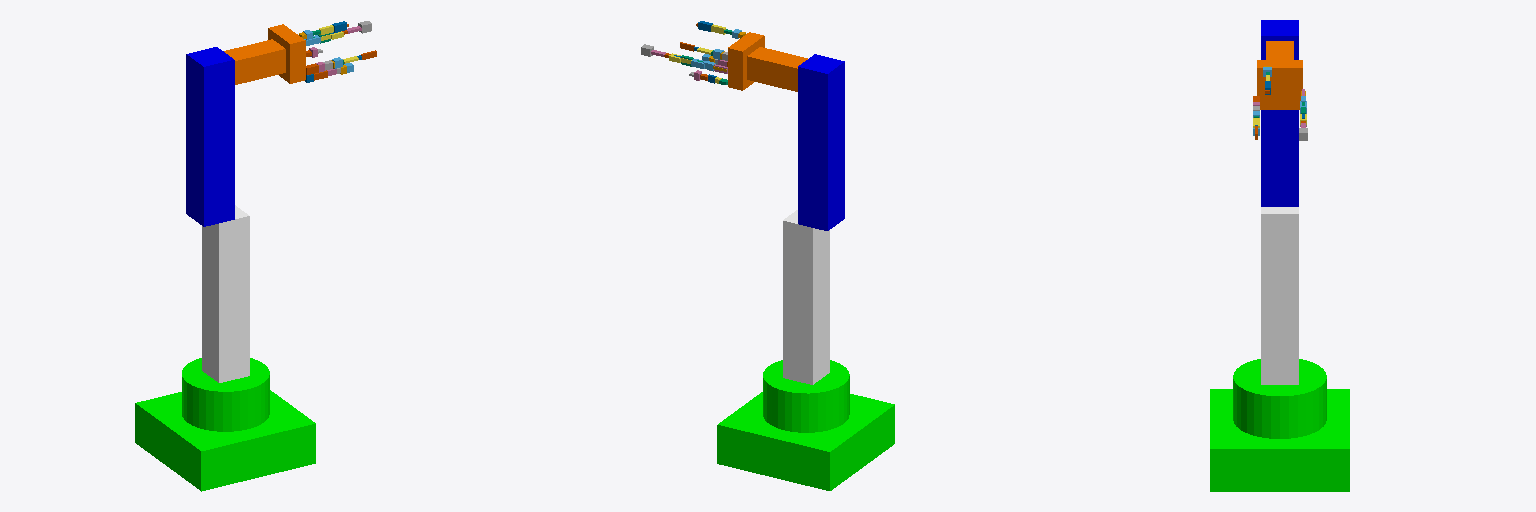
--- What the picture shows (computed from the rendered views, not written in the file) ---
Views: 3 orthographic renders of the robot side by side, from view 1: azimuth 30°, elevation 25°; view 2: azimuth 150°, elevation 25°; view 3: azimuth 270°, elevation 25°.
Model robot with 46 links and 45 joints (42 revolute, 1 continuous, 2 fixed), rooted at base_link, posed every joint at zero.
Visible links, largest first — view 1: base_link, arm_link, support_link, wrist_link, palm_link; view 2: base_link, arm_link, support_link, wrist_link, palm_link; view 3: base_link, support_link, arm_link, palm_link, wrist_link.
Link boxes in pixels (<box>): base_link: <box>135,358,315,491</box>; arm_link: <box>186,47,234,226</box>; support_link: <box>202,205,249,382</box>; wrist_link: <box>224,39,285,84</box>; palm_link: <box>268,24,305,83</box>; base_link: <box>717,360,894,490</box>; arm_link: <box>798,54,844,230</box>; support_link: <box>783,210,829,384</box>; wrist_link: <box>747,47,807,91</box>; palm_link: <box>728,32,764,90</box>; base_link: <box>1210,359,1349,491</box>; support_link: <box>1261,207,1298,384</box>; arm_link: <box>1261,20,1298,206</box>; palm_link: <box>1257,60,1302,109</box>; wrist_link: <box>1266,41,1293,59</box>.
Bounding box of the posed robot: 1.39 × 0.75 × 2.55 m (x, y, z).
Geometry: primitives only (box / cylinder / sphere), no mesh files.

The robot description file, URDF, robot "robot":
<?xml version='1.0' encoding='utf-8'?>
<robot name="robot">
  <link name="base_link">
    <visual>
      <origin xyz="0 0 0.125" rpy="0 0 0" />
      <geometry>
        <box size="0.75 0.75 0.25" />
      </geometry>
      <material name="green" />
    </visual>
    <visual>
      <origin xyz="0 0 0.375" rpy="0 0 0" />
      <geometry>
        <cylinder length="0.25" radius="0.25" />
      </geometry>
      <material name="green">
        <color rgba="0 1 0 1" />
      </material>
    </visual>
    <collision>
      <geometry>
        <box size="0.75 0.75 0.5" />
      </geometry>
    </collision>
    <inertial>
      <mass value="0.5" />
      <inertia ixx="0.034" ixy="0.0" ixz="0.0" iyy="0.034" iyz="0.0" izz="0.034" />
    </inertial>
  </link>
  <link name="support_link">
    <visual>
      <origin xyz="0 0 0.5" rpy="0 0 0" />
      <geometry>
        <box size="0.2 0.2 1" />
      </geometry>
      <material name="white">
        <color rgba="1 1 1 1" />
      </material>
    </visual>
    <collision>
      <geometry>
        <box size="0.2 0.2 1" />
      </geometry>
    </collision>
    <inertial>
      <mass value="0.1" />
      <inertia ixx="0.01" ixy="0.0" ixz="0.0" iyy="0.01" iyz="0.0" izz="0.01" />
    </inertial>
  </link>
  <joint name="support_joint" type="continuous">
    <origin xyz="0 0 0.5" rpy="0 0 0" />
    <parent link="base_link" />
    <child link="support_link" />
    <axis xyz="0 0 1" />
  </joint>
  <link name="arm_link">
    <visual>
      <origin xyz="0 0 0.5" rpy="0 0 0" />
      <geometry>
        <box size="0.2 0.2 1" />
      </geometry>
      <material name="blue">
        <color rgba="0 0 1 1" />
      </material>
    </visual>
    <collision>
      <geometry>
        <box size="0.2 0.2 1" />
      </geometry>
    </collision>
    <inertial>
      <mass value="0.1" />
      <inertia ixx="0.01" ixy="0.0" ixz="0.0" iyy="0.01" iyz="0.0" izz="0.01" />
    </inertial>
  </link>
  <joint name="arm_joint" type="revolute">
    <origin xyz="-0.1 0 1" rpy="0 0 0" />
    <parent link="support_link" />
    <child link="arm_link" />
    <axis xyz="0 1 0" />
    <limit lower="-3.14" upper="3.14" effort="1.0" velocity="1.0" />
  </joint>
  <link name="wrist_link">
    <visual>
      <origin xyz="0 0 0.25" rpy="0 0 0" />
      <geometry>
        <box size="0.15 0.15 0.5" />
      </geometry>
      <material name="orange">
        <color rgba="1 0.5 0 1" />
      </material>
    </visual>
    <collision>
      <geometry>
        <box size="0.15 0.15 0.5" />
      </geometry>
    </collision>
    <inertial>
      <mass value="0.1" />
      <inertia ixx="0.01" ixy="0.0" ixz="0.0" iyy="0.01" iyz="0.0" izz="0.01" />
    </inertial>
  </link>
  <joint name="wrist_joint" type="fixed">
    <origin xyz="0 0 0.9" rpy="0 1.571 0" />
    <parent link="arm_link" />
    <child link="wrist_link" />
  </joint>
  <link name="palm_link">
    <visual>
      <origin xyz="0 0 0.05" rpy="0 0 0" />
      <geometry>
        <box size="0.25 0.25 0.1" />
      </geometry>
      <material name="orange" />
    </visual>
    <collision>
      <geometry>
        <box size="0.25 0.25 0.1" />
      </geometry>
    </collision>
    <inertial>
      <mass value="0.1" />
      <inertia ixx="0.01" ixy="0.0" ixz="0.0" iyy="0.01" iyz="0.0" izz="0.01" />
    </inertial>
  </link>
  <joint name="palm_joint" type="fixed">
    <origin xyz="0 0 0.45" rpy="0 0 0" />
    <parent link="wrist_link" />
    <child link="palm_link" />
  </joint>
  <link name="finger_link_0_0">
    <visual>
      <origin xyz="0 0 0.038" rpy="0 0 0" />
      <geometry>
        <box size="0.044 0.035 0.076" />
      </geometry>
    </visual>
    <collision>
      <geometry>
        <box size="0.044 0.035 0.076" />
      </geometry>
    </collision>
    <inertial>
      <mass value="0.035" />
      <inertia ixx="0.0" iyy="0.0" izz="0.0" ixy="0" ixz="0" iyz="0" />
    </inertial>
  </link>
  <joint name="finger_joint_palm_link_to_finger_link_0_0" type="revolute">
    <origin xyz="0.065 -0.125 0.1" rpy="0 0 0" />
    <parent link="palm_link" />
    <child link="finger_link_0_0" />
    <axis xyz="1.0 0.0 0.0" />
    <limit lower="-3.142" upper="3.142" effort="10" velocity="10" />
  </joint>
  <link name="finger_link_0_1">
    <visual>
      <origin xyz="0 0 0.0205" rpy="0 0 0" />
      <geometry>
        <box size="0.047 0.033 0.041" />
      </geometry>
    </visual>
    <collision>
      <geometry>
        <box size="0.047 0.033 0.041" />
      </geometry>
    </collision>
    <inertial>
      <mass value="0.019" />
      <inertia ixx="0.0" iyy="0.0" izz="0.0" ixy="0" ixz="0" iyz="0" />
    </inertial>
  </link>
  <joint name="finger_joint_finger_link_0_0_to_finger_link_0_1" type="revolute">
    <origin xyz="0.0 0.0 0.076" rpy="0 0 0" />
    <parent link="finger_link_0_0" />
    <child link="finger_link_0_1" />
    <axis xyz="1.0 0.0 0.0" />
    <limit lower="-3.142" upper="3.142" effort="10" velocity="10" />
  </joint>
  <link name="finger_link_0_2">
    <visual>
      <origin xyz="0 0 0.027" rpy="0 0 0" />
      <geometry>
        <box size="0.039 0.035 0.054" />
      </geometry>
    </visual>
    <collision>
      <geometry>
        <box size="0.039 0.035 0.054" />
      </geometry>
    </collision>
    <inertial>
      <mass value="0.022" />
      <inertia ixx="0.0" iyy="0.0" izz="0.0" ixy="0" ixz="0" iyz="0" />
    </inertial>
  </link>
  <joint name="finger_joint_finger_link_0_1_to_finger_link_0_2" type="revolute">
    <origin xyz="0.0 0.0 0.041" rpy="0 0 0" />
    <parent link="finger_link_0_1" />
    <child link="finger_link_0_2" />
    <axis xyz="1.0 0.0 0.0" />
    <limit lower="-3.142" upper="3.142" effort="10" velocity="10" />
  </joint>
  <link name="finger_link_0_3">
    <visual>
      <origin xyz="0 0 0.0055" rpy="0 0 0" />
      <geometry>
        <box size="0.035 0.04 0.011" />
      </geometry>
    </visual>
    <collision>
      <geometry>
        <box size="0.035 0.04 0.011" />
      </geometry>
    </collision>
    <inertial>
      <mass value="0.005" />
      <inertia ixx="0.0" iyy="0.0" izz="0.0" ixy="0" ixz="0" iyz="0" />
    </inertial>
  </link>
  <joint name="finger_joint_finger_link_0_2_to_finger_link_0_3" type="revolute">
    <origin xyz="0.0 0.0 0.054" rpy="0 0 0" />
    <parent link="finger_link_0_2" />
    <child link="finger_link_0_3" />
    <axis xyz="0.0 1.0 0.0" />
    <limit lower="-3.142" upper="3.142" effort="10" velocity="10" />
  </joint>
  <link name="finger_link_0_4">
    <visual>
      <origin xyz="0 0 0.025" rpy="0 0 0" />
      <geometry>
        <box size="0.047 0.037 0.05" />
      </geometry>
    </visual>
    <collision>
      <geometry>
        <box size="0.047 0.037 0.05" />
      </geometry>
    </collision>
    <inertial>
      <mass value="0.026" />
      <inertia ixx="0.0" iyy="0.0" izz="0.0" ixy="0" ixz="0" iyz="0" />
    </inertial>
  </link>
  <joint name="finger_joint_finger_link_0_3_to_finger_link_0_4" type="revolute">
    <origin xyz="0.0 0.0 0.011" rpy="0 0 0" />
    <parent link="finger_link_0_3" />
    <child link="finger_link_0_4" />
    <axis xyz="0.0 1.0 0.0" />
    <limit lower="-3.142" upper="3.142" effort="10" velocity="10" />
  </joint>
  <link name="finger_link_0_5">
    <visual>
      <origin xyz="0 0 0.0065" rpy="0 0 0" />
      <geometry>
        <box size="0.029 0.028 0.013" />
      </geometry>
    </visual>
    <collision>
      <geometry>
        <box size="0.029 0.028 0.013" />
      </geometry>
    </collision>
    <inertial>
      <mass value="0.003" />
      <inertia ixx="0.0" iyy="0.0" izz="0.0" ixy="0" ixz="0" iyz="0" />
    </inertial>
  </link>
  <joint name="finger_joint_finger_link_0_4_to_finger_link_0_5" type="revolute">
    <origin xyz="0.0 0.0 0.05" rpy="0 0 0" />
    <parent link="finger_link_0_4" />
    <child link="finger_link_0_5" />
    <axis xyz="0.0 1.0 0.0" />
    <limit lower="-3.142" upper="3.142" effort="10" velocity="10" />
  </joint>
  <link name="finger_link_0_6">
    <visual>
      <origin xyz="0 0 0.047" rpy="0 0 0" />
      <geometry>
        <box size="0.013 0.035 0.094" />
      </geometry>
    </visual>
    <collision>
      <geometry>
        <box size="0.013 0.035 0.094" />
      </geometry>
    </collision>
    <inertial>
      <mass value="0.013" />
      <inertia ixx="0.0" iyy="0.0" izz="0.0" ixy="0" ixz="0" iyz="0" />
    </inertial>
  </link>
  <joint name="finger_joint_finger_link_0_5_to_finger_link_0_6" type="revolute">
    <origin xyz="0.0 0.0 0.013" rpy="0 0 0" />
    <parent link="finger_link_0_5" />
    <child link="finger_link_0_6" />
    <axis xyz="0.0 1.0 0.0" />
    <limit lower="-3.142" upper="3.142" effort="10" velocity="10" />
  </joint>
  <link name="finger_link_0_7">
    <visual>
      <origin xyz="0 0 0.0125" rpy="0 0 0" />
      <geometry>
        <box size="0.019 0.02 0.025" />
      </geometry>
    </visual>
    <collision>
      <geometry>
        <box size="0.019 0.02 0.025" />
      </geometry>
    </collision>
    <inertial>
      <mass value="0.003" />
      <inertia ixx="0.0" iyy="0.0" izz="0.0" ixy="0" ixz="0" iyz="0" />
    </inertial>
  </link>
  <joint name="finger_joint_finger_link_0_6_to_finger_link_0_7" type="revolute">
    <origin xyz="0.0 0.0 0.094" rpy="0 0 0" />
    <parent link="finger_link_0_6" />
    <child link="finger_link_0_7" />
    <axis xyz="1.0 0.0 0.0" />
    <limit lower="-3.142" upper="3.142" effort="10" velocity="10" />
  </joint>
  <link name="finger_link_0_8">
    <visual>
      <origin xyz="0 0 0.0485" rpy="0 0 0" />
      <geometry>
        <box size="0.034 0.014 0.097" />
      </geometry>
    </visual>
    <collision>
      <geometry>
        <box size="0.034 0.014 0.097" />
      </geometry>
    </collision>
    <inertial>
      <mass value="0.014" />
      <inertia ixx="0.0" iyy="0.0" izz="0.0" ixy="0" ixz="0" iyz="0" />
    </inertial>
  </link>
  <joint name="finger_joint_finger_link_0_7_to_finger_link_0_8" type="revolute">
    <origin xyz="0.0 0.0 0.025" rpy="0 0 0" />
    <parent link="finger_link_0_7" />
    <child link="finger_link_0_8" />
    <axis xyz="1.0 0.0 0.0" />
    <limit lower="-3.142" upper="3.142" effort="10" velocity="10" />
  </joint>
  <link name="finger_link_1_0">
    <visual>
      <origin xyz="0 0 0.044" rpy="0 0 0" />
      <geometry>
        <box size="0.038 0.015 0.088" />
      </geometry>
    </visual>
    <collision>
      <geometry>
        <box size="0.038 0.015 0.088" />
      </geometry>
    </collision>
    <inertial>
      <mass value="0.015" />
      <inertia ixx="0.0" iyy="0.0" izz="0.0" ixy="0" ixz="0" iyz="0" />
    </inertial>
  </link>
  <joint name="finger_joint_palm_link_to_finger_link_1_0" type="revolute">
    <origin xyz="0.021 0.125 0.1" rpy="0 0 0" />
    <parent link="palm_link" />
    <child link="finger_link_1_0" />
    <axis xyz="-1.0 0.0 0.0" />
    <limit lower="-3.142" upper="3.142" effort="10" velocity="10" />
  </joint>
  <link name="finger_link_1_1">
    <visual>
      <origin xyz="0 0 0.0225" rpy="0 0 0" />
      <geometry>
        <box size="0.045 0.017 0.045" />
      </geometry>
    </visual>
    <collision>
      <geometry>
        <box size="0.045 0.017 0.045" />
      </geometry>
    </collision>
    <inertial>
      <mass value="0.01" />
      <inertia ixx="0.0" iyy="0.0" izz="0.0" ixy="0" ixz="0" iyz="0" />
    </inertial>
  </link>
  <joint name="finger_joint_finger_link_1_0_to_finger_link_1_1" type="revolute">
    <origin xyz="0.0 0.0 0.088" rpy="0 0 0" />
    <parent link="finger_link_1_0" />
    <child link="finger_link_1_1" />
    <axis xyz="0.0 1.0 0.0" />
    <limit lower="-3.142" upper="3.142" effort="10" velocity="10" />
  </joint>
  <link name="finger_link_1_2">
    <visual>
      <origin xyz="0 0 0.006" rpy="0 0 0" />
      <geometry>
        <box size="0.025 0.011 0.012" />
      </geometry>
    </visual>
    <collision>
      <geometry>
        <box size="0.025 0.011 0.012" />
      </geometry>
    </collision>
    <inertial>
      <mass value="0.001" />
      <inertia ixx="0.0" iyy="0.0" izz="0.0" ixy="0" ixz="0" iyz="0" />
    </inertial>
  </link>
  <joint name="finger_joint_finger_link_1_1_to_finger_link_1_2" type="revolute">
    <origin xyz="0.0 0.0 0.045" rpy="0 0 0" />
    <parent link="finger_link_1_1" />
    <child link="finger_link_1_2" />
    <axis xyz="0.0 1.0 0.0" />
    <limit lower="-3.142" upper="3.142" effort="10" velocity="10" />
  </joint>
  <link name="finger_link_1_3">
    <visual>
      <origin xyz="0 0 0.043" rpy="0 0 0" />
      <geometry>
        <box size="0.035 0.038 0.086" />
      </geometry>
    </visual>
    <collision>
      <geometry>
        <box size="0.035 0.038 0.086" />
      </geometry>
    </collision>
    <inertial>
      <mass value="0.034" />
      <inertia ixx="0.0" iyy="0.0" izz="0.0" ixy="0" ixz="0" iyz="0" />
    </inertial>
  </link>
  <joint name="finger_joint_finger_link_1_2_to_finger_link_1_3" type="revolute">
    <origin xyz="0.0 0.0 0.012" rpy="0 0 0" />
    <parent link="finger_link_1_2" />
    <child link="finger_link_1_3" />
    <axis xyz="0.0 1.0 0.0" />
    <limit lower="-3.142" upper="3.142" effort="10" velocity="10" />
  </joint>
  <link name="finger_link_1_4">
    <visual>
      <origin xyz="0 0 0.0375" rpy="0 0 0" />
      <geometry>
        <box size="0.049 0.023 0.075" />
      </geometry>
    </visual>
    <collision>
      <geometry>
        <box size="0.049 0.023 0.075" />
      </geometry>
    </collision>
    <inertial>
      <mass value="0.025" />
      <inertia ixx="0.0" iyy="0.0" izz="0.0" ixy="0" ixz="0" iyz="0" />
    </inertial>
  </link>
  <joint name="finger_joint_finger_link_1_3_to_finger_link_1_4" type="revolute">
    <origin xyz="0.0 0.0 0.086" rpy="0 0 0" />
    <parent link="finger_link_1_3" />
    <child link="finger_link_1_4" />
    <axis xyz="1.0 0.0 0.0" />
    <limit lower="-3.142" upper="3.142" effort="10" velocity="10" />
  </joint>
  <link name="finger_link_1_5">
    <visual>
      <origin xyz="0 0 0.0375" rpy="0 0 0" />
      <geometry>
        <box size="0.03 0.041 0.075" />
      </geometry>
    </visual>
    <collision>
      <geometry>
        <box size="0.03 0.041 0.075" />
      </geometry>
    </collision>
    <inertial>
      <mass value="0.028" />
      <inertia ixx="0.0" iyy="0.0" izz="0.0" ixy="0" ixz="0" iyz="0" />
    </inertial>
  </link>
  <joint name="finger_joint_finger_link_1_4_to_finger_link_1_5" type="revolute">
    <origin xyz="0.0 0.0 0.075" rpy="0 0 0" />
    <parent link="finger_link_1_4" />
    <child link="finger_link_1_5" />
    <axis xyz="1.0 0.0 0.0" />
    <limit lower="-3.142" upper="3.142" effort="10" velocity="10" />
  </joint>
  <link name="finger_link_2_0">
    <visual>
      <origin xyz="0 0 0.0235" rpy="0 0 0" />
      <geometry>
        <box size="0.045 0.036 0.047" />
      </geometry>
    </visual>
    <collision>
      <geometry>
        <box size="0.045 0.036 0.047" />
      </geometry>
    </collision>
    <inertial>
      <mass value="0.023" />
      <inertia ixx="0.0" iyy="0.0" izz="0.0" ixy="0" ixz="0" iyz="0" />
    </inertial>
  </link>
  <joint name="finger_joint_palm_link_to_finger_link_2_0" type="revolute">
    <origin xyz="0.112 -0.125 0.1" rpy="0 0 0" />
    <parent link="palm_link" />
    <child link="finger_link_2_0" />
    <axis xyz="1.0 0.0 0.0" />
    <limit lower="-3.142" upper="3.142" effort="10" velocity="10" />
  </joint>
  <link name="finger_link_2_1">
    <visual>
      <origin xyz="0 0 0.046" rpy="0 0 0" />
      <geometry>
        <box size="0.038 0.035 0.092" />
      </geometry>
    </visual>
    <collision>
      <geometry>
        <box size="0.038 0.035 0.092" />
      </geometry>
    </collision>
    <inertial>
      <mass value="0.037" />
      <inertia ixx="0.0" iyy="0.0" izz="0.0" ixy="0" ixz="0" iyz="0" />
    </inertial>
  </link>
  <joint name="finger_joint_finger_link_2_0_to_finger_link_2_1" type="revolute">
    <origin xyz="0.0 0.0 0.047" rpy="0 0 0" />
    <parent link="finger_link_2_0" />
    <child link="finger_link_2_1" />
    <axis xyz="0.0 1.0 0.0" />
    <limit lower="-3.142" upper="3.142" effort="10" velocity="10" />
  </joint>
  <link name="finger_link_2_2">
    <visual>
      <origin xyz="0 0 0.0305" rpy="0 0 0" />
      <geometry>
        <box size="0.032 0.022 0.061" />
      </geometry>
    </visual>
    <collision>
      <geometry>
        <box size="0.032 0.022 0.061" />
      </geometry>
    </collision>
    <inertial>
      <mass value="0.013" />
      <inertia ixx="0.0" iyy="0.0" izz="0.0" ixy="0" ixz="0" iyz="0" />
    </inertial>
  </link>
  <joint name="finger_joint_finger_link_2_1_to_finger_link_2_2" type="revolute">
    <origin xyz="0.0 0.0 0.092" rpy="0 0 0" />
    <parent link="finger_link_2_1" />
    <child link="finger_link_2_2" />
    <axis xyz="1.0 0.0 0.0" />
    <limit lower="-3.142" upper="3.142" effort="10" velocity="10" />
  </joint>
  <link name="finger_link_2_3">
    <visual>
      <origin xyz="0 0 0.0105" rpy="0 0 0" />
      <geometry>
        <box size="0.031 0.026 0.021" />
      </geometry>
    </visual>
    <collision>
      <geometry>
        <box size="0.031 0.026 0.021" />
      </geometry>
    </collision>
    <inertial>
      <mass value="0.005" />
      <inertia ixx="0.0" iyy="0.0" izz="0.0" ixy="0" ixz="0" iyz="0" />
    </inertial>
  </link>
  <joint name="finger_joint_finger_link_2_2_to_finger_link_2_3" type="revolute">
    <origin xyz="0.0 0.0 0.061" rpy="0 0 0" />
    <parent link="finger_link_2_2" />
    <child link="finger_link_2_3" />
    <axis xyz="1.0 0.0 0.0" />
    <limit lower="-3.142" upper="3.142" effort="10" velocity="10" />
  </joint>
  <link name="finger_link_2_4">
    <visual>
      <origin xyz="0 0 0.0195" rpy="0 0 0" />
      <geometry>
        <box size="0.042 0.042 0.039" />
      </geometry>
    </visual>
    <collision>
      <geometry>
        <box size="0.042 0.042 0.039" />
      </geometry>
    </collision>
    <inertial>
      <mass value="0.021" />
      <inertia ixx="0.0" iyy="0.0" izz="0.0" ixy="0" ixz="0" iyz="0" />
    </inertial>
  </link>
  <joint name="finger_joint_finger_link_2_3_to_finger_link_2_4" type="revolute">
    <origin xyz="0.0 0.0 0.021" rpy="0 0 0" />
    <parent link="finger_link_2_3" />
    <child link="finger_link_2_4" />
    <axis xyz="0.0 1.0 0.0" />
    <limit lower="-3.142" upper="3.142" effort="10" velocity="10" />
  </joint>
  <link name="finger_link_2_5">
    <visual>
      <origin xyz="0 0 0.0215" rpy="0 0 0" />
      <geometry>
        <box size="0.042 0.04 0.043" />
      </geometry>
    </visual>
    <collision>
      <geometry>
        <box size="0.042 0.04 0.043" />
      </geometry>
    </collision>
    <inertial>
      <mass value="0.022" />
      <inertia ixx="0.0" iyy="0.0" izz="0.0" ixy="0" ixz="0" iyz="0" />
    </inertial>
  </link>
  <joint name="finger_joint_finger_link_2_4_to_finger_link_2_5" type="revolute">
    <origin xyz="0.0 0.0 0.039" rpy="0 0 0" />
    <parent link="finger_link_2_4" />
    <child link="finger_link_2_5" />
    <axis xyz="1.0 0.0 0.0" />
    <limit lower="-3.142" upper="3.142" effort="10" velocity="10" />
  </joint>
  <link name="finger_link_3_0">
    <visual>
      <origin xyz="0 0 0.023" rpy="0 0 0" />
      <geometry>
        <box size="0.02 0.038 0.046" />
      </geometry>
    </visual>
    <collision>
      <geometry>
        <box size="0.02 0.038 0.046" />
      </geometry>
    </collision>
    <inertial>
      <mass value="0.01" />
      <inertia ixx="0.0" iyy="0.0" izz="0.0" ixy="0" ixz="0" iyz="0" />
    </inertial>
  </link>
  <joint name="finger_joint_palm_link_to_finger_link_3_0" type="revolute">
    <origin xyz="0.097 0.125 0.1" rpy="0 0 0" />
    <parent link="palm_link" />
    <child link="finger_link_3_0" />
    <axis xyz="-1.0 0.0 0.0" />
    <limit lower="-3.142" upper="3.142" effort="10" velocity="10" />
  </joint>
  <link name="finger_link_3_1">
    <visual>
      <origin xyz="0 0 0.0165" rpy="0 0 0" />
      <geometry>
        <box size="0.027 0.027 0.033" />
      </geometry>
    </visual>
    <collision>
      <geometry>
        <box size="0.027 0.027 0.033" />
      </geometry>
    </collision>
    <inertial>
      <mass value="0.007" />
      <inertia ixx="0.0" iyy="0.0" izz="0.0" ixy="0" ixz="0" iyz="0" />
    </inertial>
  </link>
  <joint name="finger_joint_finger_link_3_0_to_finger_link_3_1" type="revolute">
    <origin xyz="0.0 0.0 0.046" rpy="0 0 0" />
    <parent link="finger_link_3_0" />
    <child link="finger_link_3_1" />
    <axis xyz="1.0 0.0 0.0" />
    <limit lower="-3.142" upper="3.142" effort="10" velocity="10" />
  </joint>
  <link name="finger_link_3_2">
    <visual>
      <origin xyz="0 0 0.025" rpy="0 0 0" />
      <geometry>
        <box size="0.041 0.018 0.05" />
      </geometry>
    </visual>
    <collision>
      <geometry>
        <box size="0.041 0.018 0.05" />
      </geometry>
    </collision>
    <inertial>
      <mass value="0.011" />
      <inertia ixx="0.0" iyy="0.0" izz="0.0" ixy="0" ixz="0" iyz="0" />
    </inertial>
  </link>
  <joint name="finger_joint_finger_link_3_1_to_finger_link_3_2" type="revolute">
    <origin xyz="0.0 0.0 0.033" rpy="0 0 0" />
    <parent link="finger_link_3_1" />
    <child link="finger_link_3_2" />
    <axis xyz="0.0 1.0 0.0" />
    <limit lower="-3.142" upper="3.142" effort="10" velocity="10" />
  </joint>
  <link name="finger_link_3_3">
    <visual>
      <origin xyz="0 0 0.025" rpy="0 0 0" />
      <geometry>
        <box size="0.025 0.029 0.05" />
      </geometry>
    </visual>
    <collision>
      <geometry>
        <box size="0.025 0.029 0.05" />
      </geometry>
    </collision>
    <inertial>
      <mass value="0.011" />
      <inertia ixx="0.0" iyy="0.0" izz="0.0" ixy="0" ixz="0" iyz="0" />
    </inertial>
  </link>
  <joint name="finger_joint_finger_link_3_2_to_finger_link_3_3" type="revolute">
    <origin xyz="0.0 0.0 0.05" rpy="0 0 0" />
    <parent link="finger_link_3_2" />
    <child link="finger_link_3_3" />
    <axis xyz="1.0 0.0 0.0" />
    <limit lower="-3.142" upper="3.142" effort="10" velocity="10" />
  </joint>
  <link name="finger_link_3_4">
    <visual>
      <origin xyz="0 0 0.017" rpy="0 0 0" />
      <geometry>
        <box size="0.047 0.037 0.034" />
      </geometry>
    </visual>
    <collision>
      <geometry>
        <box size="0.047 0.037 0.034" />
      </geometry>
    </collision>
    <inertial>
      <mass value="0.018" />
      <inertia ixx="0.0" iyy="0.0" izz="0.0" ixy="0" ixz="0" iyz="0" />
    </inertial>
  </link>
  <joint name="finger_joint_finger_link_3_3_to_finger_link_3_4" type="revolute">
    <origin xyz="0.0 0.0 0.05" rpy="0 0 0" />
    <parent link="finger_link_3_3" />
    <child link="finger_link_3_4" />
    <axis xyz="1.0 0.0 0.0" />
    <limit lower="-3.142" upper="3.142" effort="10" velocity="10" />
  </joint>
  <link name="finger_link_3_5">
    <visual>
      <origin xyz="0 0 0.017" rpy="0 0 0" />
      <geometry>
        <box size="0.013 0.033 0.034" />
      </geometry>
    </visual>
    <collision>
      <geometry>
        <box size="0.013 0.033 0.034" />
      </geometry>
    </collision>
    <inertial>
      <mass value="0.004" />
      <inertia ixx="0.0" iyy="0.0" izz="0.0" ixy="0" ixz="0" iyz="0" />
    </inertial>
  </link>
  <joint name="finger_joint_finger_link_3_4_to_finger_link_3_5" type="revolute">
    <origin xyz="0.0 0.0 0.034" rpy="0 0 0" />
    <parent link="finger_link_3_4" />
    <child link="finger_link_3_5" />
    <axis xyz="0.0 1.0 0.0" />
    <limit lower="-3.142" upper="3.142" effort="10" velocity="10" />
  </joint>
  <link name="finger_link_4_0">
    <visual>
      <origin xyz="0 0 0.0445" rpy="0 0 0" />
      <geometry>
        <box size="0.017 0.022 0.089" />
      </geometry>
    </visual>
    <collision>
      <geometry>
        <box size="0.017 0.022 0.089" />
      </geometry>
    </collision>
    <inertial>
      <mass value="0.01" />
      <inertia ixx="0.0" iyy="0.0" izz="0.0" ixy="0" ixz="0" iyz="0" />
    </inertial>
  </link>
  <joint name="finger_joint_palm_link_to_finger_link_4_0" type="revolute">
    <origin xyz="0.017 0.125 0.1" rpy="0 0 0" />
    <parent link="palm_link" />
    <child link="finger_link_4_0" />
    <axis xyz="-1.0 0.0 0.0" />
    <limit lower="-3.142" upper="3.142" effort="10" velocity="10" />
  </joint>
  <link name="finger_link_4_1">
    <visual>
      <origin xyz="0 0 0.032" rpy="0 0 0" />
      <geometry>
        <box size="0.04 0.03 0.064" />
      </geometry>
    </visual>
    <collision>
      <geometry>
        <box size="0.04 0.03 0.064" />
      </geometry>
    </collision>
    <inertial>
      <mass value="0.023" />
      <inertia ixx="0.0" iyy="0.0" izz="0.0" ixy="0" ixz="0" iyz="0" />
    </inertial>
  </link>
  <joint name="finger_joint_finger_link_4_0_to_finger_link_4_1" type="revolute">
    <origin xyz="0.0 0.0 0.089" rpy="0 0 0" />
    <parent link="finger_link_4_0" />
    <child link="finger_link_4_1" />
    <axis xyz="1.0 0.0 0.0" />
    <limit lower="-3.142" upper="3.142" effort="10" velocity="10" />
  </joint>
  <link name="finger_link_4_2">
    <visual>
      <origin xyz="0 0 0.026" rpy="0 0 0" />
      <geometry>
        <box size="0.027 0.017 0.052" />
      </geometry>
    </visual>
    <collision>
      <geometry>
        <box size="0.027 0.017 0.052" />
      </geometry>
    </collision>
    <inertial>
      <mass value="0.007" />
      <inertia ixx="0.0" iyy="0.0" izz="0.0" ixy="0" ixz="0" iyz="0" />
    </inertial>
  </link>
  <joint name="finger_joint_finger_link_4_1_to_finger_link_4_2" type="revolute">
    <origin xyz="0.0 0.0 0.064" rpy="0 0 0" />
    <parent link="finger_link_4_1" />
    <child link="finger_link_4_2" />
    <axis xyz="0.0 1.0 0.0" />
    <limit lower="-3.142" upper="3.142" effort="10" velocity="10" />
  </joint>
  <link name="finger_link_4_3">
    <visual>
      <origin xyz="0 0 0.05" rpy="0 0 0" />
      <geometry>
        <box size="0.026 0.029 0.1" />
      </geometry>
    </visual>
    <collision>
      <geometry>
        <box size="0.026 0.029 0.1" />
      </geometry>
    </collision>
    <inertial>
      <mass value="0.023" />
      <inertia ixx="0.0" iyy="0.0" izz="0.0" ixy="0" ixz="0" iyz="0" />
    </inertial>
  </link>
  <joint name="finger_joint_finger_link_4_2_to_finger_link_4_3" type="revolute">
    <origin xyz="0.0 0.0 0.052" rpy="0 0 0" />
    <parent link="finger_link_4_2" />
    <child link="finger_link_4_3" />
    <axis xyz="1.0 0.0 0.0" />
    <limit lower="-3.142" upper="3.142" effort="10" velocity="10" />
  </joint>
  <link name="finger_link_4_4">
    <visual>
      <origin xyz="0 0 0.0265" rpy="0 0 0" />
      <geometry>
        <box size="0.023 0.015 0.053" />
      </geometry>
    </visual>
    <collision>
      <geometry>
        <box size="0.023 0.015 0.053" />
      </geometry>
    </collision>
    <inertial>
      <mass value="0.005" />
      <inertia ixx="0.0" iyy="0.0" izz="0.0" ixy="0" ixz="0" iyz="0" />
    </inertial>
  </link>
  <joint name="finger_joint_finger_link_4_3_to_finger_link_4_4" type="revolute">
    <origin xyz="0.0 0.0 0.1" rpy="0 0 0" />
    <parent link="finger_link_4_3" />
    <child link="finger_link_4_4" />
    <axis xyz="0.0 1.0 0.0" />
    <limit lower="-3.142" upper="3.142" effort="10" velocity="10" />
  </joint>
  <link name="finger_link_4_5">
    <visual>
      <origin xyz="0 0 0.0275" rpy="0 0 0" />
      <geometry>
        <box size="0.016 0.028 0.055" />
      </geometry>
    </visual>
    <collision>
      <geometry>
        <box size="0.016 0.028 0.055" />
      </geometry>
    </collision>
    <inertial>
      <mass value="0.007" />
      <inertia ixx="0.0" iyy="0.0" izz="0.0" ixy="0" ixz="0" iyz="0" />
    </inertial>
  </link>
  <joint name="finger_joint_finger_link_4_4_to_finger_link_4_5" type="revolute">
    <origin xyz="0.0 0.0 0.053" rpy="0 0 0" />
    <parent link="finger_link_4_4" />
    <child link="finger_link_4_5" />
    <axis xyz="1.0 0.0 0.0" />
    <limit lower="-3.142" upper="3.142" effort="10" velocity="10" />
  </joint>
  <link name="finger_link_4_6">
    <visual>
      <origin xyz="0 0 0.0445" rpy="0 0 0" />
      <geometry>
        <box size="0.017 0.03 0.089" />
      </geometry>
    </visual>
    <collision>
      <geometry>
        <box size="0.017 0.03 0.089" />
      </geometry>
    </collision>
    <inertial>
      <mass value="0.014" />
      <inertia ixx="0.0" iyy="0.0" izz="0.0" ixy="0" ixz="0" iyz="0" />
    </inertial>
  </link>
  <joint name="finger_joint_finger_link_4_5_to_finger_link_4_6" type="revolute">
    <origin xyz="0.0 0.0 0.055" rpy="0 0 0" />
    <parent link="finger_link_4_5" />
    <child link="finger_link_4_6" />
    <axis xyz="1.0 0.0 0.0" />
    <limit lower="-3.142" upper="3.142" effort="10" velocity="10" />
  </joint>
  <link name="finger_link_4_7">
    <visual>
      <origin xyz="0 0 0.032" rpy="0 0 0" />
      <geometry>
        <box size="0.049 0.045 0.064" />
      </geometry>
    </visual>
    <collision>
      <geometry>
        <box size="0.049 0.045 0.064" />
      </geometry>
    </collision>
    <inertial>
      <mass value="0.042" />
      <inertia ixx="0.0" iyy="0.0" izz="0.0" ixy="0" ixz="0" iyz="0" />
    </inertial>
  </link>
  <joint name="finger_joint_finger_link_4_6_to_finger_link_4_7" type="revolute">
    <origin xyz="0.0 0.0 0.089" rpy="0 0 0" />
    <parent link="finger_link_4_6" />
    <child link="finger_link_4_7" />
    <axis xyz="1.0 0.0 0.0" />
    <limit lower="-3.142" upper="3.142" effort="10" velocity="10" />
  </joint>
  <link name="finger_link_5_0">
    <visual>
      <origin xyz="0 0 0.015" rpy="0 0 0" />
      <geometry>
        <box size="0.025 0.041 0.03" />
      </geometry>
    </visual>
    <collision>
      <geometry>
        <box size="0.025 0.041 0.03" />
      </geometry>
    </collision>
    <inertial>
      <mass value="0.009" />
      <inertia ixx="0.0" iyy="0.0" izz="0.0" ixy="0" ixz="0" iyz="0" />
    </inertial>
  </link>
  <joint name="finger_joint_palm_link_to_finger_link_5_0" type="revolute">
    <origin xyz="-0.125 -0.066 0.1" rpy="0 0 0" />
    <parent link="palm_link" />
    <child link="finger_link_5_0" />
    <axis xyz="0.0 -1.0 0.0" />
    <limit lower="-3.142" upper="3.142" effort="10" velocity="10" />
  </joint>
  <link name="finger_link_5_1">
    <visual>
      <origin xyz="0 0 0.02" rpy="0 0 0" />
      <geometry>
        <box size="0.037 0.049 0.04" />
      </geometry>
    </visual>
    <collision>
      <geometry>
        <box size="0.037 0.049 0.04" />
      </geometry>
    </collision>
    <inertial>
      <mass value="0.022" />
      <inertia ixx="0.0" iyy="0.0" izz="0.0" ixy="0" ixz="0" iyz="0" />
    </inertial>
  </link>
  <joint name="finger_joint_finger_link_5_0_to_finger_link_5_1" type="revolute">
    <origin xyz="0.0 0.0 0.03" rpy="0 0 0" />
    <parent link="finger_link_5_0" />
    <child link="finger_link_5_1" />
    <axis xyz="0.0 1.0 0.0" />
    <limit lower="-3.142" upper="3.142" effort="10" velocity="10" />
  </joint>
  <link name="finger_link_5_2">
    <visual>
      <origin xyz="0 0 0.028" rpy="0 0 0" />
      <geometry>
        <box size="0.017 0.022 0.056" />
      </geometry>
    </visual>
    <collision>
      <geometry>
        <box size="0.017 0.022 0.056" />
      </geometry>
    </collision>
    <inertial>
      <mass value="0.006" />
      <inertia ixx="0.0" iyy="0.0" izz="0.0" ixy="0" ixz="0" iyz="0" />
    </inertial>
  </link>
  <joint name="finger_joint_finger_link_5_1_to_finger_link_5_2" type="revolute">
    <origin xyz="0.0 0.0 0.04" rpy="0 0 0" />
    <parent link="finger_link_5_1" />
    <child link="finger_link_5_2" />
    <axis xyz="1.0 0.0 0.0" />
    <limit lower="-3.142" upper="3.142" effort="10" velocity="10" />
  </joint>
  <link name="finger_link_5_3">
    <visual>
      <origin xyz="0 0 0.044" rpy="0 0 0" />
      <geometry>
        <box size="0.037 0.022 0.088" />
      </geometry>
    </visual>
    <collision>
      <geometry>
        <box size="0.037 0.022 0.088" />
      </geometry>
    </collision>
    <inertial>
      <mass value="0.021" />
      <inertia ixx="0.0" iyy="0.0" izz="0.0" ixy="0" ixz="0" iyz="0" />
    </inertial>
  </link>
  <joint name="finger_joint_finger_link_5_2_to_finger_link_5_3" type="revolute">
    <origin xyz="0.0 0.0 0.056" rpy="0 0 0" />
    <parent link="finger_link_5_2" />
    <child link="finger_link_5_3" />
    <axis xyz="1.0 0.0 0.0" />
    <limit lower="-3.142" upper="3.142" effort="10" velocity="10" />
  </joint>
  <link name="finger_link_5_4">
    <visual>
      <origin xyz="0 0 0.042" rpy="0 0 0" />
      <geometry>
        <box size="0.043 0.031 0.084" />
      </geometry>
    </visual>
    <collision>
      <geometry>
        <box size="0.043 0.031 0.084" />
      </geometry>
    </collision>
    <inertial>
      <mass value="0.034" />
      <inertia ixx="0.0" iyy="0.0" izz="0.0" ixy="0" ixz="0" iyz="0" />
    </inertial>
  </link>
  <joint name="finger_joint_finger_link_5_3_to_finger_link_5_4" type="revolute">
    <origin xyz="0.0 0.0 0.088" rpy="0 0 0" />
    <parent link="finger_link_5_3" />
    <child link="finger_link_5_4" />
    <axis xyz="0.0 1.0 0.0" />
    <limit lower="-3.142" upper="3.142" effort="10" velocity="10" />
  </joint>
  <link name="finger_link_5_5">
    <visual>
      <origin xyz="0 0 0.006" rpy="0 0 0" />
      <geometry>
        <box size="0.014 0.029 0.012" />
      </geometry>
    </visual>
    <collision>
      <geometry>
        <box size="0.014 0.029 0.012" />
      </geometry>
    </collision>
    <inertial>
      <mass value="0.001" />
      <inertia ixx="0.0" iyy="0.0" izz="0.0" ixy="0" ixz="0" iyz="0" />
    </inertial>
  </link>
  <joint name="finger_joint_finger_link_5_4_to_finger_link_5_5" type="revolute">
    <origin xyz="0.0 0.0 0.084" rpy="0 0 0" />
    <parent link="finger_link_5_4" />
    <child link="finger_link_5_5" />
    <axis xyz="0.0 1.0 0.0" />
    <limit lower="-3.142" upper="3.142" effort="10" velocity="10" />
  </joint>
</robot>
